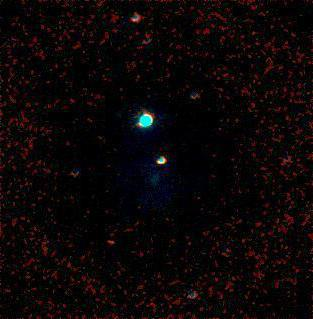star: (94, 229, 124, 259)
